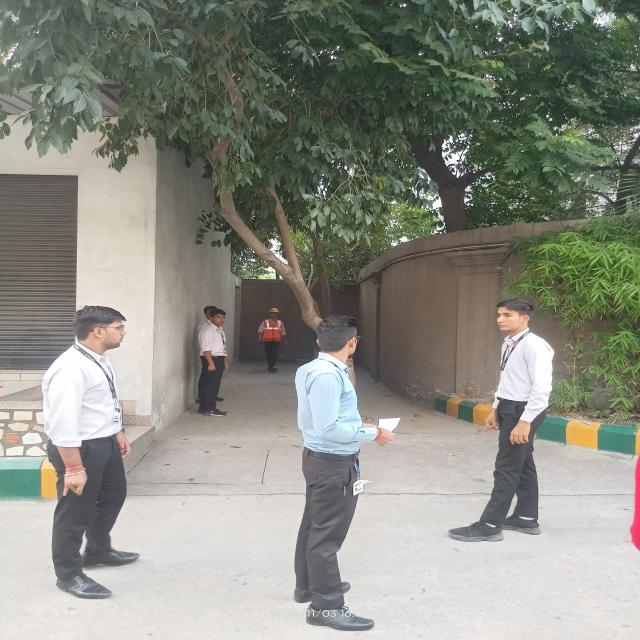unsafe: (43, 302, 143, 600), (292, 314, 382, 630), (459, 300, 554, 538), (200, 309, 231, 419), (255, 308, 286, 372)
